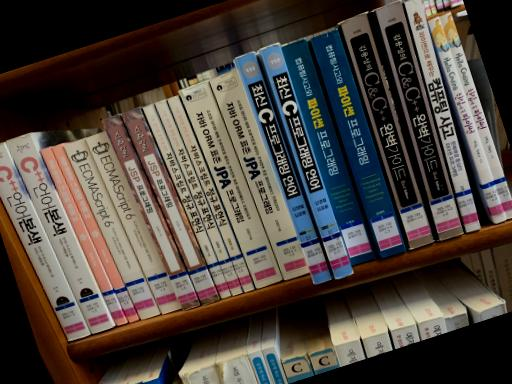book-spine: (339, 11, 434, 250), (310, 28, 407, 259), (236, 51, 332, 284), (260, 42, 353, 279), (178, 80, 282, 289), (6, 133, 114, 333), (373, 0, 463, 240), (209, 69, 310, 280), (283, 38, 376, 266), (122, 107, 219, 305), (102, 114, 199, 309), (0, 142, 91, 341), (404, 0, 481, 233), (63, 137, 161, 319), (86, 130, 182, 314), (167, 94, 255, 293), (155, 98, 243, 296), (142, 103, 231, 298), (427, 16, 506, 223), (39, 147, 127, 326), (51, 143, 138, 323), (439, 11, 512, 219)
